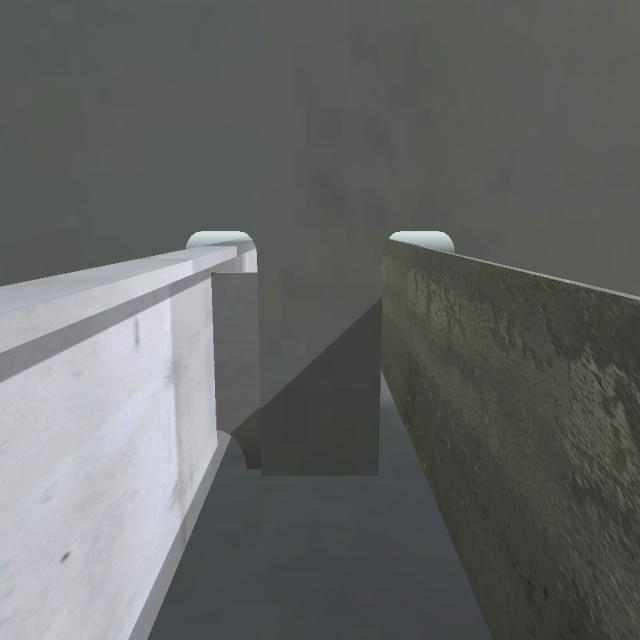fillet_hole: (217, 428, 247, 467)
fillet_yong_jeop_jang: (243, 461, 385, 488)
longi_yong_jeop_jang: (207, 270, 224, 431)
plate_behind: (212, 273, 256, 473)
